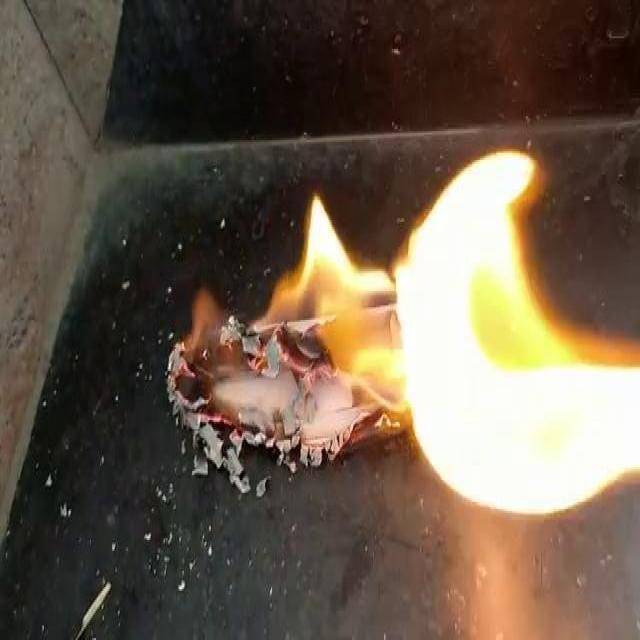Fire: (304, 145, 640, 517)
